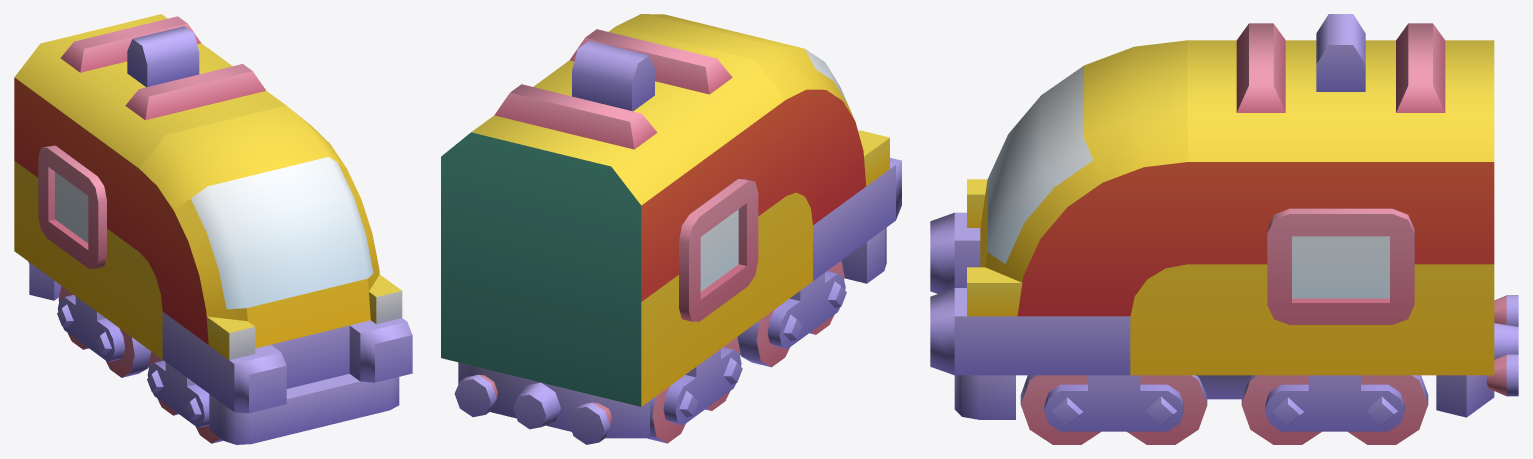
Rendered from tr-loco.glb.
3 views of the same model, side by side, from view 1: azimuth 30°, elevation 25°; view 2: azimuth 150°, elevation 25°; view 3: azimuth 270°, elevation 25° (orthographic). The views are drawn at different scales.
Visible parts, largest first — view 1: train-electric-city-a; view 2: train-electric-city-a; view 3: train-electric-city-a.
Boxes of the visible parts, x1,y1,x2,y2 form: train-electric-city-a: (14,14,412,444); train-electric-city-a: (441,14,901,444); train-electric-city-a: (930,14,1518,444).
Bounding box in the file's own units: 1.1 × 1.68 × 2.4.
1 material, 1 textured.
